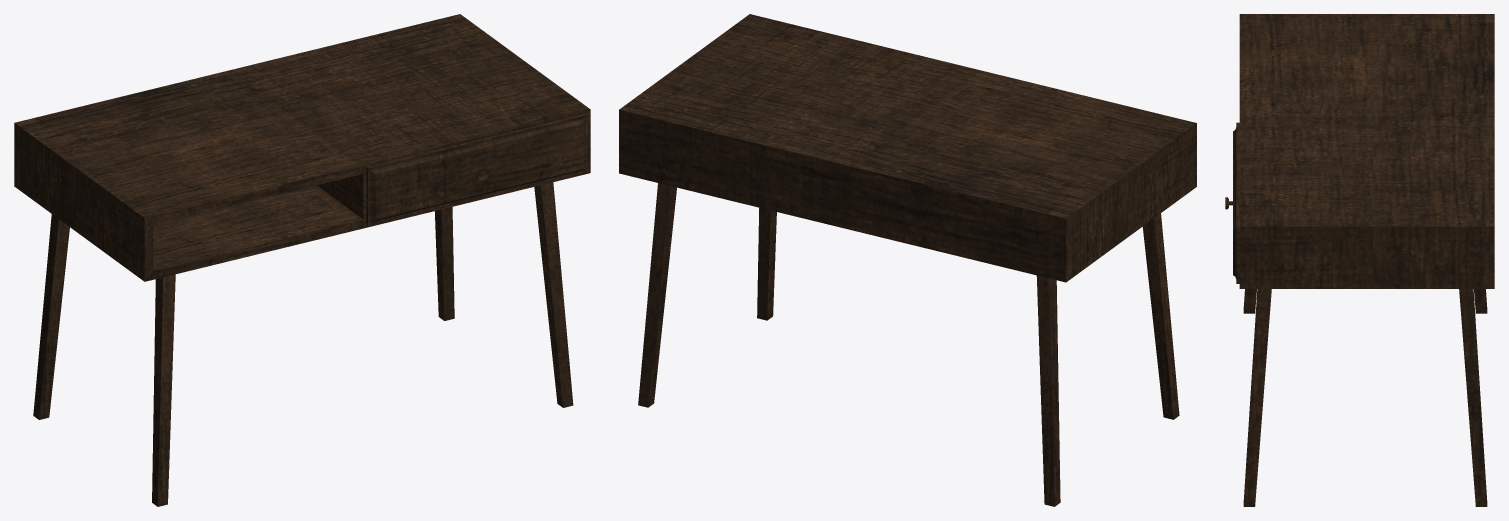
File: tv_table_4_1.obj
3 views of the same model, side by side, from view 1: azimuth 30°, elevation 25°; view 2: azimuth 150°, elevation 25°; view 3: azimuth 270°, elevation 25° (orthographic). The views are drawn at different scales.
Visible parts, largest first — view 1: tv_table_4_1, tv_table_4_1_drawer; view 2: tv_table_4_1; view 3: tv_table_4_1, tv_table_4_1_drawer.
Part boxes in pixels (x1,y1,x2,y2): tv_table_4_1: (14,14,590,506); tv_table_4_1_drawer: (366,113,587,225); tv_table_4_1: (619,14,1196,506); tv_table_4_1: (1239,14,1494,506); tv_table_4_1_drawer: (1225,122,1239,283).
Size of the model in its own units: 1.54 by 0.97 by 0.8235.
